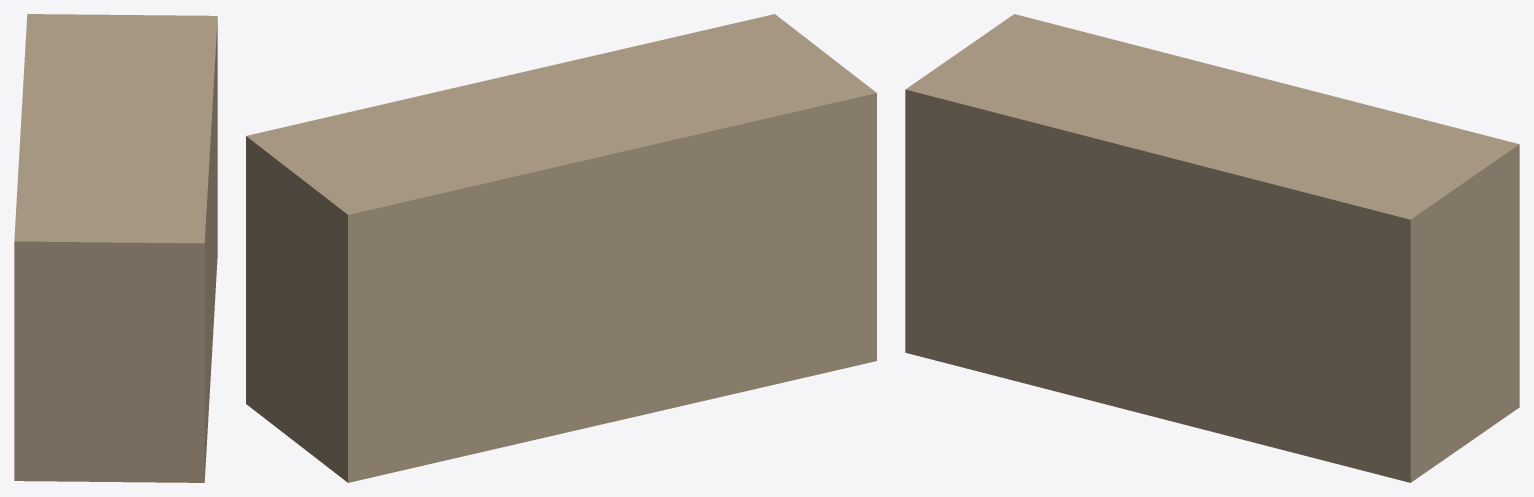
File: bld_108401236.dae
3 views of the same model, side by side, from view 1: azimuth 30°, elevation 25°; view 2: azimuth 150°, elevation 25°; view 3: azimuth 270°, elevation 25° (orthographic). The views are drawn at different scales.
Parts seen in each view (by area): view 1: bld_108401236; view 2: bld_108401236; view 3: bld_108401236.
Boxes of the visible parts, x1,y1,x2,y2 form: bld_108401236: (14, 14, 217, 482); bld_108401236: (246, 14, 876, 482); bld_108401236: (905, 14, 1519, 482).
Bounding box in the file's own units: 13.41 × 16.91 × 8.
